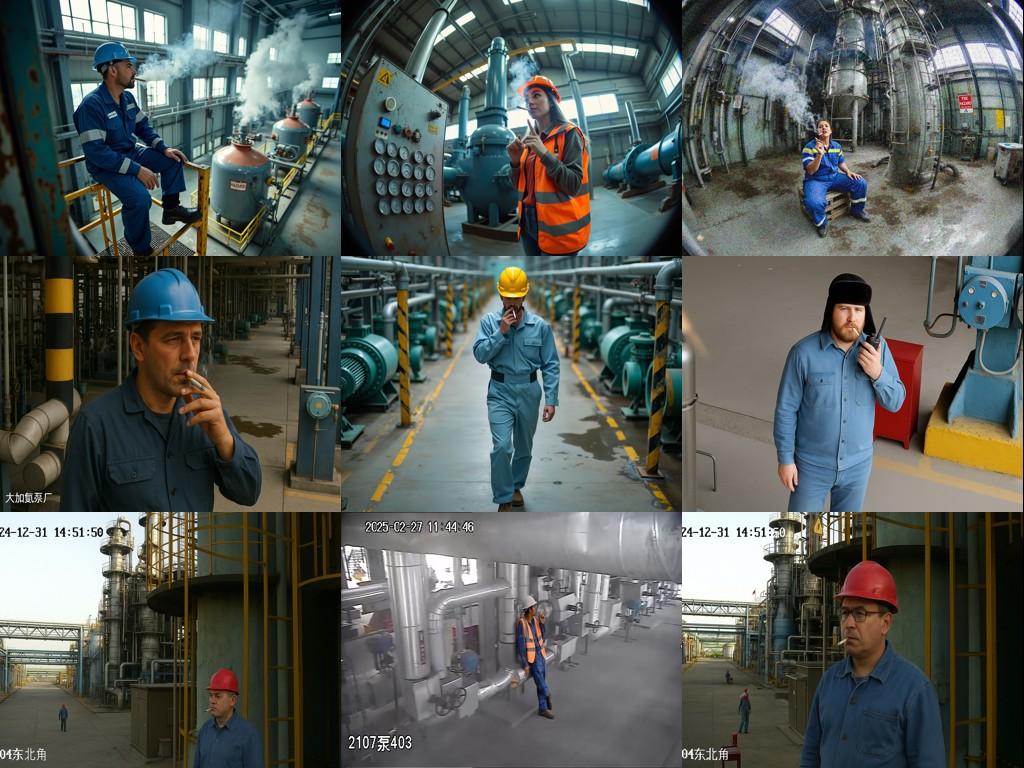smoking: (179, 366, 214, 395), (125, 66, 152, 90), (833, 627, 859, 651), (510, 95, 538, 117), (504, 301, 523, 323), (200, 702, 221, 718), (847, 323, 866, 340), (815, 126, 829, 140), (534, 608, 546, 617)
